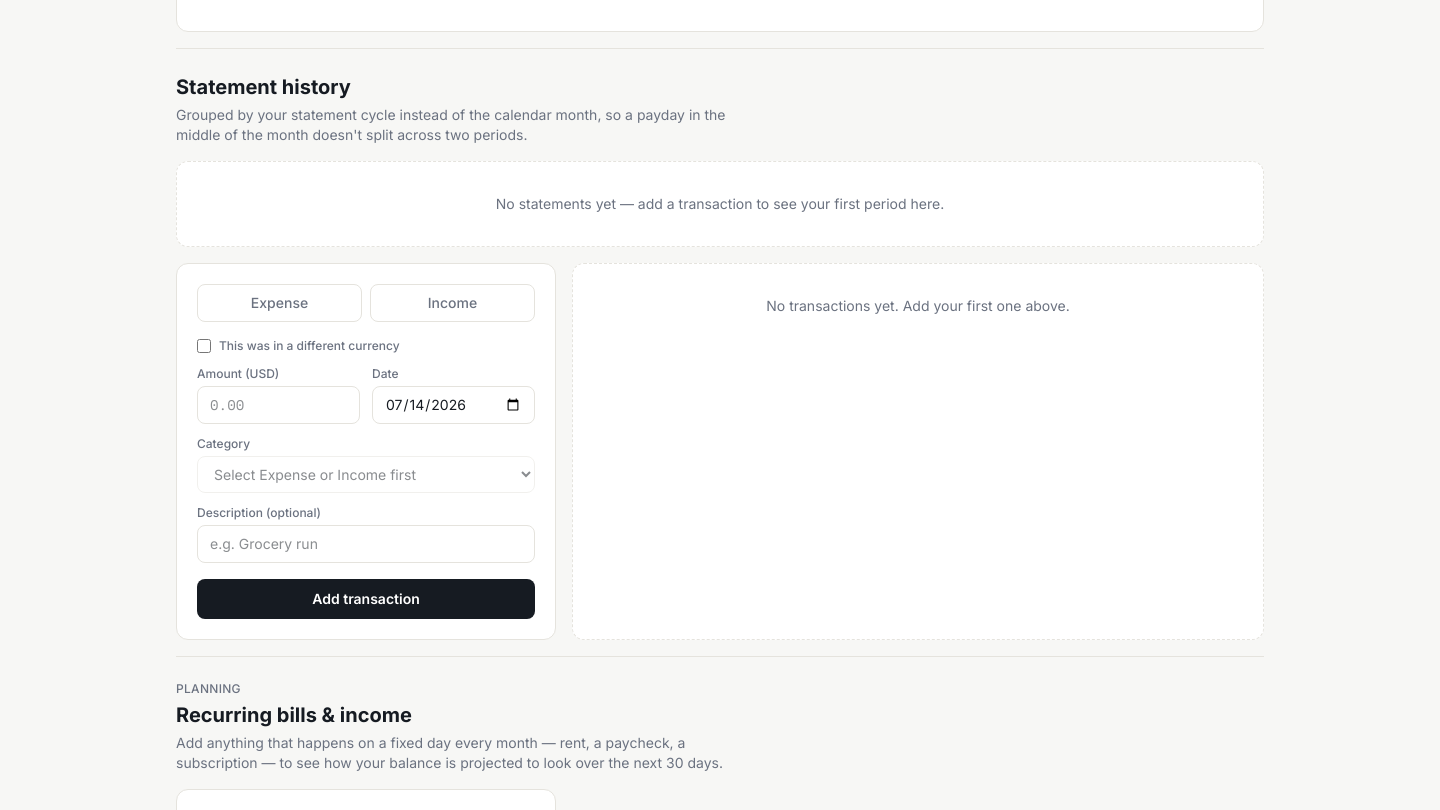
App › shows a warning and does not add a transaction if type was never selected
(page scrolled)
Type "20" into the number field labelled "Amount (USD)" at (278, 405), box [197, 386, 360, 424]
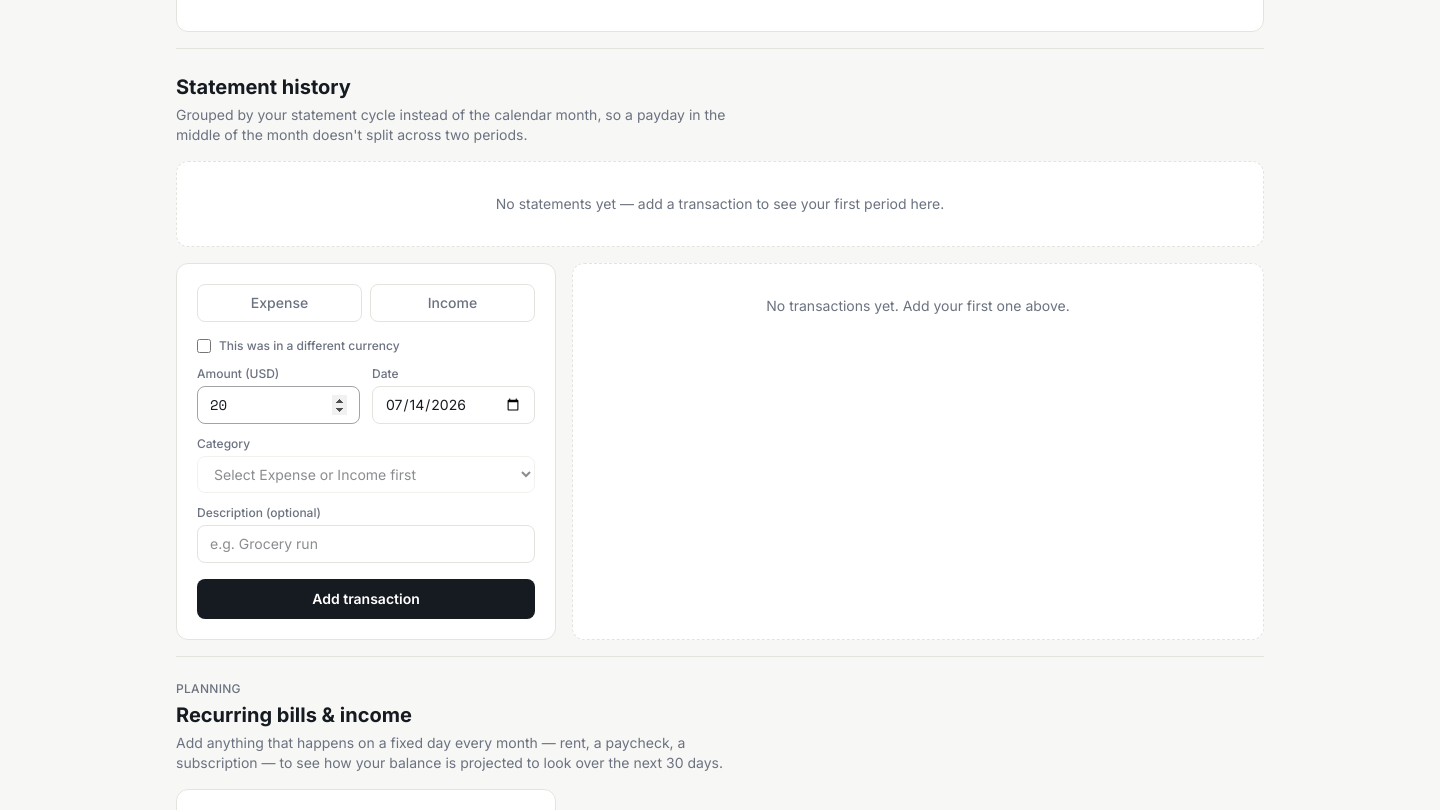
Click the button "Add transaction" at (366, 599), box [197, 579, 535, 619]
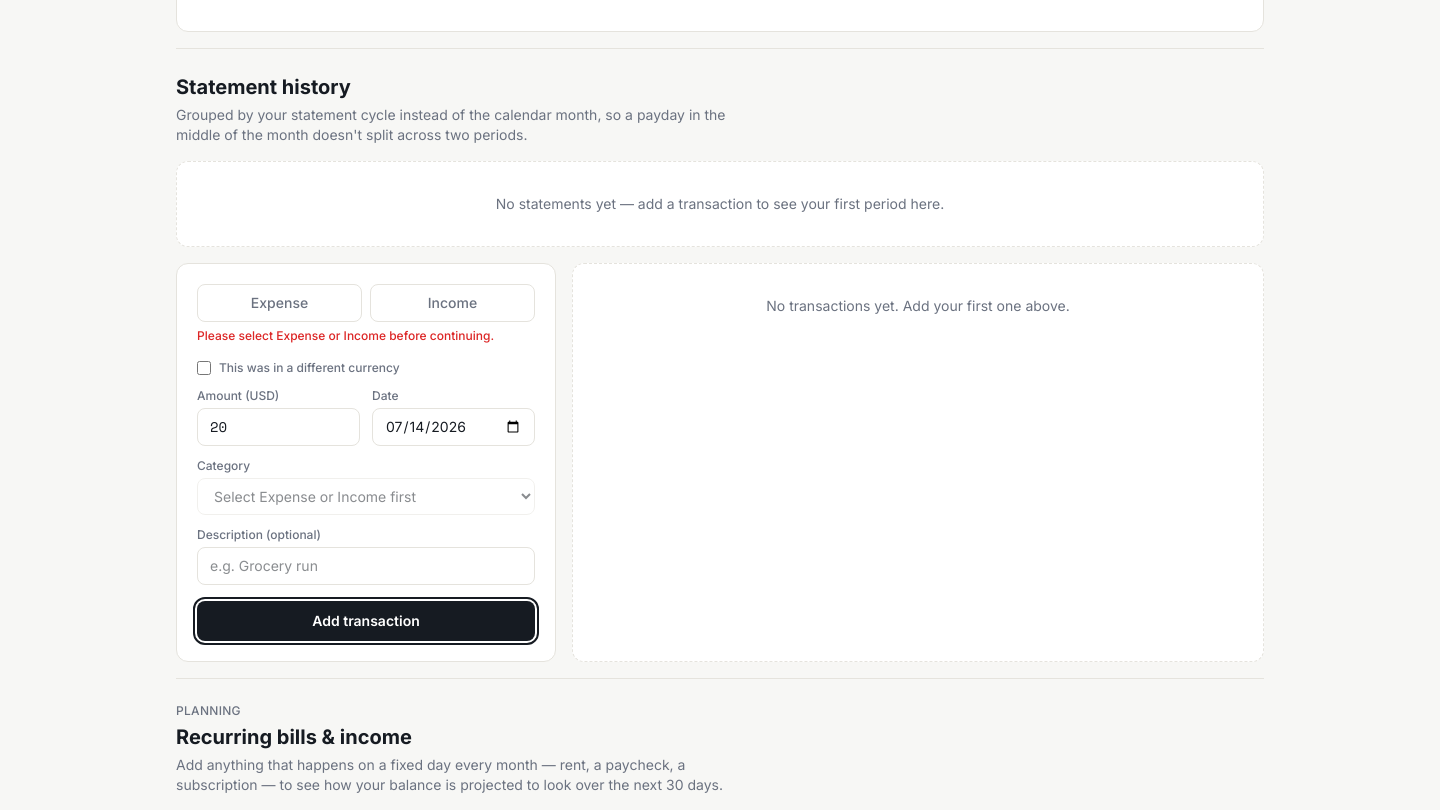
Expected: the text "No transactions yet. Add your first one above." is shown, [572, 263, 1264, 662]
Result: the text "Please select Expense or Income before continuing." is shown at [197, 328, 535, 344]
